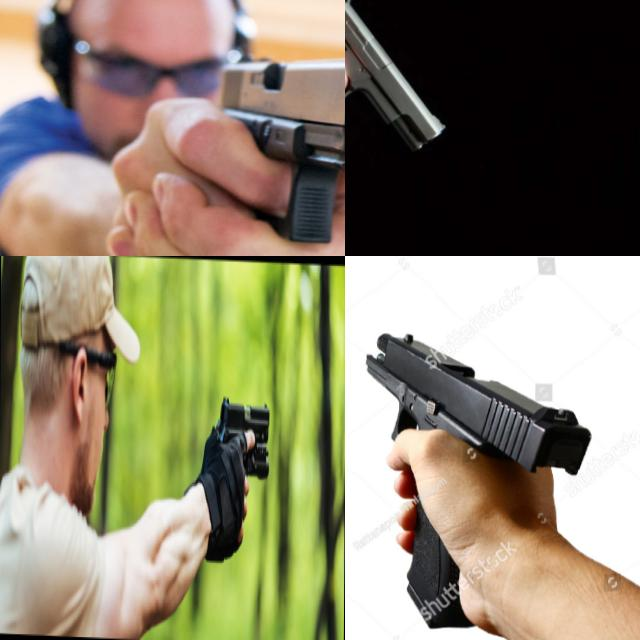handgun: (359, 326, 596, 633), (202, 41, 345, 256), (345, 0, 452, 153), (214, 394, 272, 508)
